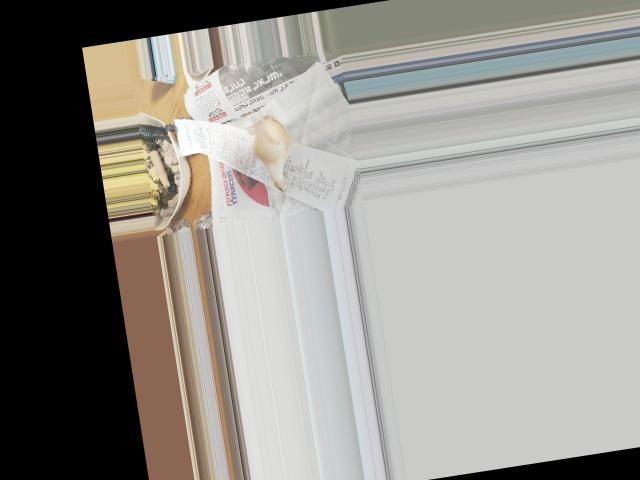onion: (248, 117, 293, 173)
